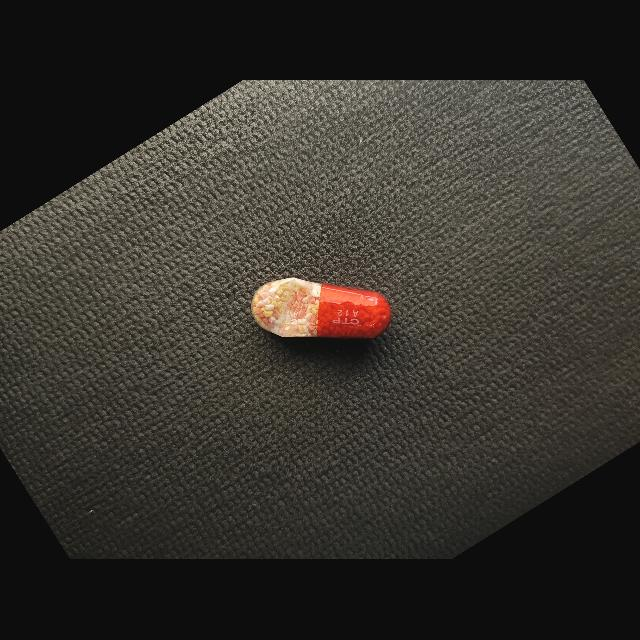Defective Capsule: (251, 278, 391, 339)
